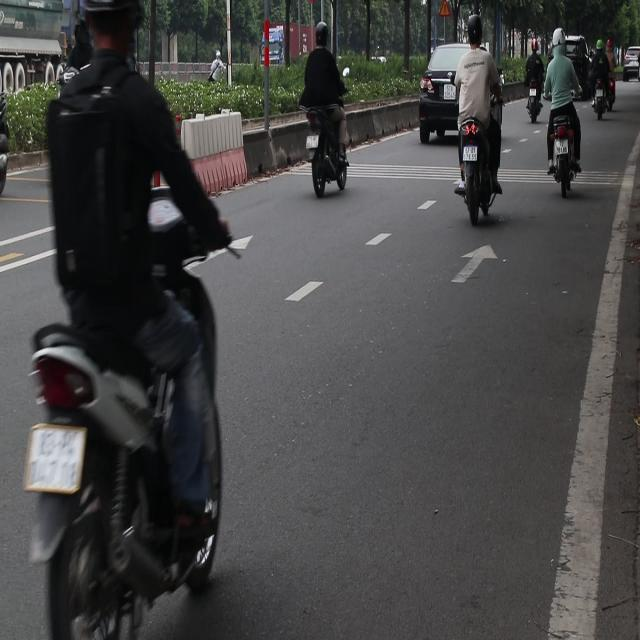car: (420, 42, 475, 144), (252, 13, 322, 70), (622, 49, 640, 82)
motorbike: (39, 289, 231, 640), (439, 119, 508, 228), (540, 98, 582, 194), (311, 112, 350, 199), (522, 74, 545, 131), (594, 75, 603, 137), (607, 74, 619, 113)
